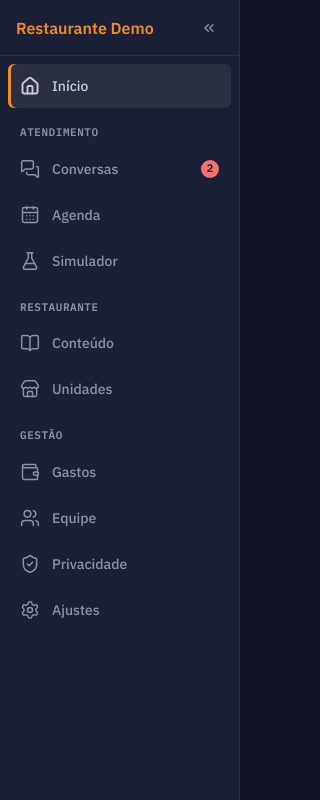
Test: MenuLateral › recolher e abrir: grava o cookie, mantém os nomes acessíveis e esconde só o texto
The width and height of the screenshot is (320, 800).
Click the button named "Recolher menu" at [209, 28], box [187,6,231,50]
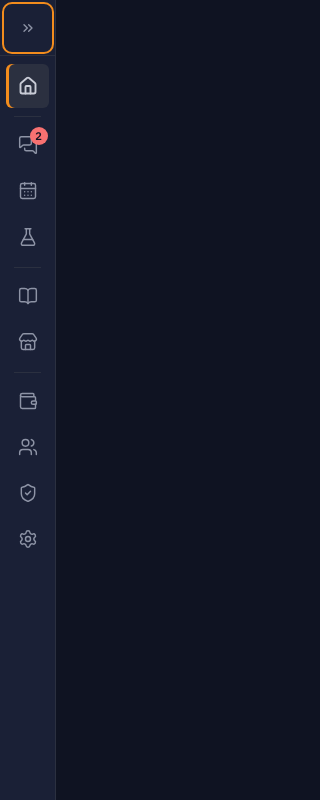
expect the 1st link named "Início" is shown: met, box [6,64,49,108]
expect the button named "Abrir menu" is collapsed: met
Click the button named "Abrir menu" at [28, 28], box [6,6,50,50]
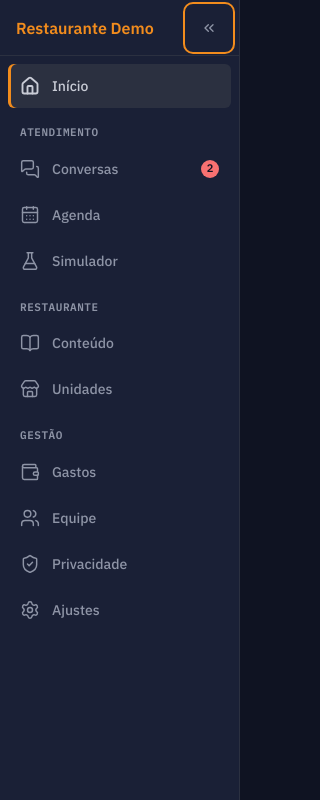
expect the button named "Recolher menu" is expanded: met, box [187,6,231,50]
